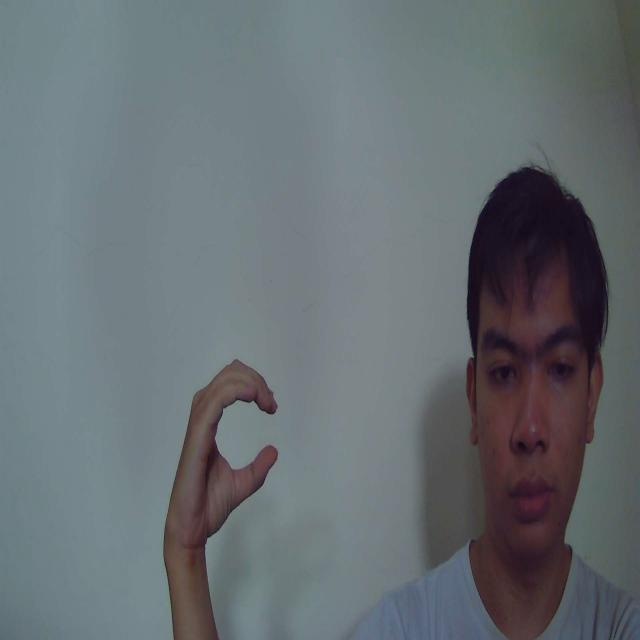C: (164, 358, 281, 545)
